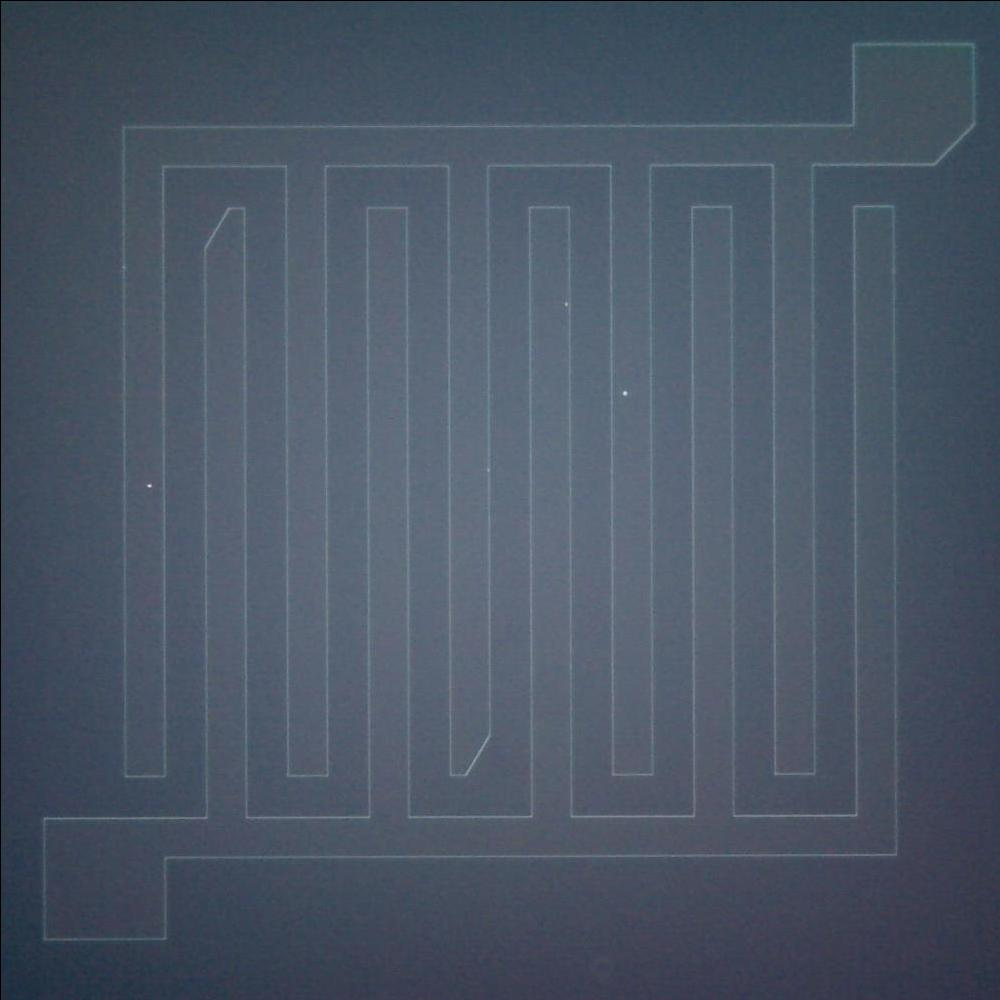dot: (610, 377, 638, 408), (132, 470, 159, 501)
edge circuit: (916, 110, 986, 179), (190, 193, 258, 263), (436, 718, 503, 788)
